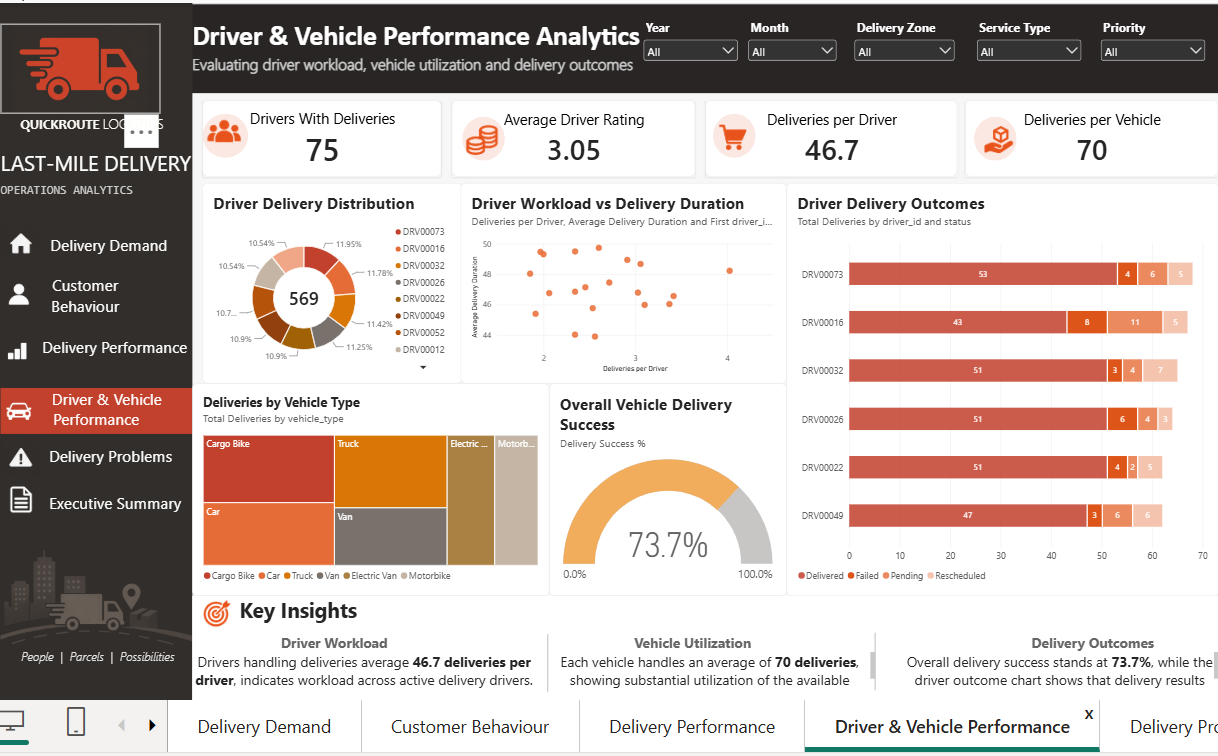

The dashboard page shown, as its layout file describes it:
{"tool":"powerbi","page":{"name":"Driver & Vehicle Performance","canvas":[1920,1080],"ordinal":3},"visuals":[{"type":"shape","box":[0,0,1920,140],"z":0},{"type":"textbox","box":[299.4,25.1,1620.4,91.4],"z":1000},{"type":"shape","box":[0,0,299.6,1081],"z":2000},{"type":"textbox","box":[2.3,420.5,262.8,82.3],"z":3000},{"type":"textbox","box":[59.4,516.5,240,73.1],"z":4000},{"type":"textbox","box":[2.3,596.5,297.1,70.8],"z":5000},{"type":"textbox","box":[77.7,685.6,221.7,54.8],"z":6000},{"type":"textbox","box":[77.7,758.8,221.7,45.7],"z":7000},{"type":"image","box":[2.3,633.1,297.1,447.9],"z":8000},{"type":"image","box":[2.3,32,246.8,139.4],"z":9000},{"type":"image","box":[9.1,740.5,50.3,52.6],"z":10000},{"type":"image","box":[2.3,516.5,52.6,43.4],"z":11000},{"type":"image","box":[2.3,596.5,57.1,70.8],"z":12000},{"type":"image","box":[6.9,429.7,48,41.1],"z":13000},{"type":"image","box":[0,667.3,66.3,73.1],"z":14000},{"type":"slicer","fields":{"Values":["date_table.Year"]},"box":[994.2,25.1,155.4,91.4],"z":15000},{"type":"slicer","fields":{"Values":["date_table.MonthName"]},"box":[1156.4,25.1,146.3,91.4],"z":16000},{"type":"slicer","fields":{"Values":["orders (1).delivery_zone_id"]},"box":[1321,25.1,164.5,102.8],"z":17000},{"type":"slicer","fields":{"Values":["orders (1).service_type"]},"box":[1510.7,25.1,171.4,102.8],"z":18000},{"type":"slicer","fields":{"Values":["orders (1).priority"]},"box":[1702.6,25.1,171.4,102.8],"z":19000},{"type":"textbox","box":[34.3,998.7,246.8,66.3],"z":20000},{"type":"textbox","box":[2.3,358.8,297.1,43.4],"z":21000},{"type":"image","box":[0,340.5,68.6,61.7],"z":22000},{"type":"textbox","box":[2.3,171.4,283.4,54.8],"z":23000},{"type":"textbox","box":[2.3,226.3,402.2,89.1],"z":24000},{"type":"textbox","box":[2.3,278.8,244.5,36.6],"z":25000},{"type":"cardVisual","fields":{"Data":["_Measures (2).Drivers With Deliveries"]},"box":[315.4,150.8,370.2,118.8],"z":26000},{"type":"cardVisual","fields":{"Data":["_Measures (2).Average Driver Rating"]},"box":[701.6,150.8,377.1,118.8],"z":27000},{"type":"cardVisual","fields":{"Data":["_Measures (2).Deliveries per Driver"]},"box":[1094.7,150.8,390.8,118.8],"z":28000},{"type":"cardVisual","fields":{"Data":["_Measures (2).Deliveries per Vehicle"]},"box":[1496.9,150.8,392,118.8],"z":29000},{"type":"shape","box":[315.4,171.4,70.8,68.6],"z":30000},{"type":"shape","box":[717.6,176,66.3,68.6],"z":31000},{"type":"shape","box":[1106.1,171.4,66.3,68.6],"z":32000},{"type":"shape","box":[1510.7,176,66.3,68.6],"z":33000},{"type":"image","box":[313.1,171.4,73.1,57.1],"z":34000},{"type":"image","box":[715.3,182.8,68.6,61.7],"z":35000},{"type":"image","box":[1510.7,185.1,77.7,59.4],"z":36000},{"type":"image","box":[1108.4,180.5,66.3,57.1],"z":37000},{"type":"donutChart","title":"Driver Delivery Distribution","fields":{"Category":["deliveries (1).driver_id"],"Y":["_Measures (2).Total Deliveries"]},"box":[315.4,278.8,402.2,310.8],"z":38000},{"type":"gauge","title":"Overall Vehicle Delivery Success","fields":{"Y":["_Measures (2).Delivery Success %"]},"box":[852.5,589.6,368,329.1],"z":39000},{"type":"scatterChart","title":"Driver Workload vs Delivery Duration","fields":{"Category":["orders (1).delivery_zone_id"],"X":["_Measures (2).Deliveries per Driver"],"Y":["_Measures (2).Average Delivery Duration"]},"box":[715.3,278.8,505.1,310.8],"z":40000},{"type":"treemap","title":"Deliveries by Vehicle Type","fields":{"Group":["vehicles (1).vehicle_type"],"Values":["_Measures (2).Total Deliveries"]},"box":[299.4,589.6,553.1,329.1],"z":41000},{"type":"barChart","title":"Driver Delivery Outcomes","fields":{"Category":["drivers (1).driver_id"],"Series":["deliveries (1).status"],"Y":["_Measures (2).Total Deliveries"]},"box":[1220.4,278.8,669.6,639.9],"z":42000},{"type":"shape","box":[299.4,918.7,1590.6,162.3],"z":43000},{"type":"textbox","box":[372.5,918.7,205.7,57.1],"z":44000},{"type":"image","box":[299.4,918.7,75.4,61.7],"z":45000},{"type":"textbox","box":[436.5,975.9,313.1,45.7],"z":46000},{"type":"textbox","box":[281.1,1005.6,569.1,61.7],"z":47000},{"type":"shape","box":[783.9,978.2,132.6,89.1],"z":48000},{"type":"shape","box":[1291.3,975.9,132.6,89.1],"z":49000},{"type":"textbox","box":[852.5,975.9,438.8,52.6],"z":50000},{"type":"textbox","box":[852.5,1005.6,505.1,59.4],"z":51000},{"type":"textbox","box":[1403.2,975.9,386.2,52.6],"z":52000},{"type":"textbox","box":[1403.2,1005.6,486.8,59.4],"z":53000}]}

Visuals, with their boxes on the page's 1920x1080 design canvas (x1, y1, x2, y2). These are canvas units, not pixel positions in the 1218x756 screenshot, which may show the page scaled, cropped or inside an application window:
shape: region(0, 0, 1920, 140)
textbox: region(299, 25, 1920, 116)
shape: region(0, 0, 300, 1081)
textbox: region(2, 420, 265, 503)
textbox: region(59, 516, 299, 590)
textbox: region(2, 596, 299, 667)
textbox: region(78, 686, 299, 740)
textbox: region(78, 759, 299, 804)
image: region(2, 633, 299, 1081)
image: region(2, 32, 249, 171)
image: region(9, 740, 59, 793)
image: region(2, 516, 55, 560)
image: region(2, 596, 59, 667)
image: region(7, 430, 55, 471)
image: region(0, 667, 66, 740)
slicer - date_table.Year: region(994, 25, 1150, 116)
slicer - date_table.MonthName: region(1156, 25, 1303, 116)
slicer - orders (1).delivery_zone_id: region(1321, 25, 1486, 128)
slicer - orders (1).service_type: region(1511, 25, 1682, 128)
slicer - orders (1).priority: region(1703, 25, 1874, 128)
textbox: region(34, 999, 281, 1065)
textbox: region(2, 359, 299, 402)
image: region(0, 340, 69, 402)
textbox: region(2, 171, 286, 226)
textbox: region(2, 226, 404, 315)
textbox: region(2, 279, 247, 315)
cardVisual - _Measures (2).Drivers With Deliveries: region(315, 151, 686, 270)
cardVisual - _Measures (2).Average Driver Rating: region(702, 151, 1079, 270)
cardVisual - _Measures (2).Deliveries per Driver: region(1095, 151, 1486, 270)
cardVisual - _Measures (2).Deliveries per Vehicle: region(1497, 151, 1889, 270)
shape: region(315, 171, 386, 240)
shape: region(718, 176, 784, 245)
shape: region(1106, 171, 1172, 240)
shape: region(1511, 176, 1577, 245)
image: region(313, 171, 386, 228)
image: region(715, 183, 784, 244)
image: region(1511, 185, 1588, 244)
image: region(1108, 180, 1175, 238)
"Driver Delivery Distribution" donutChart: region(315, 279, 718, 590)
"Overall Vehicle Delivery Success" gauge: region(852, 590, 1220, 919)
"Driver Workload vs Delivery Duration" scatterChart: region(715, 279, 1220, 590)
"Deliveries by Vehicle Type" treemap: region(299, 590, 852, 919)
"Driver Delivery Outcomes" barChart: region(1220, 279, 1890, 919)
shape: region(299, 919, 1890, 1081)
textbox: region(372, 919, 578, 976)
image: region(299, 919, 375, 980)
textbox: region(436, 976, 750, 1022)
textbox: region(281, 1006, 850, 1067)
shape: region(784, 978, 916, 1067)
shape: region(1291, 976, 1424, 1065)
textbox: region(852, 976, 1291, 1028)
textbox: region(852, 1006, 1358, 1065)
textbox: region(1403, 976, 1789, 1028)
textbox: region(1403, 1006, 1890, 1065)
